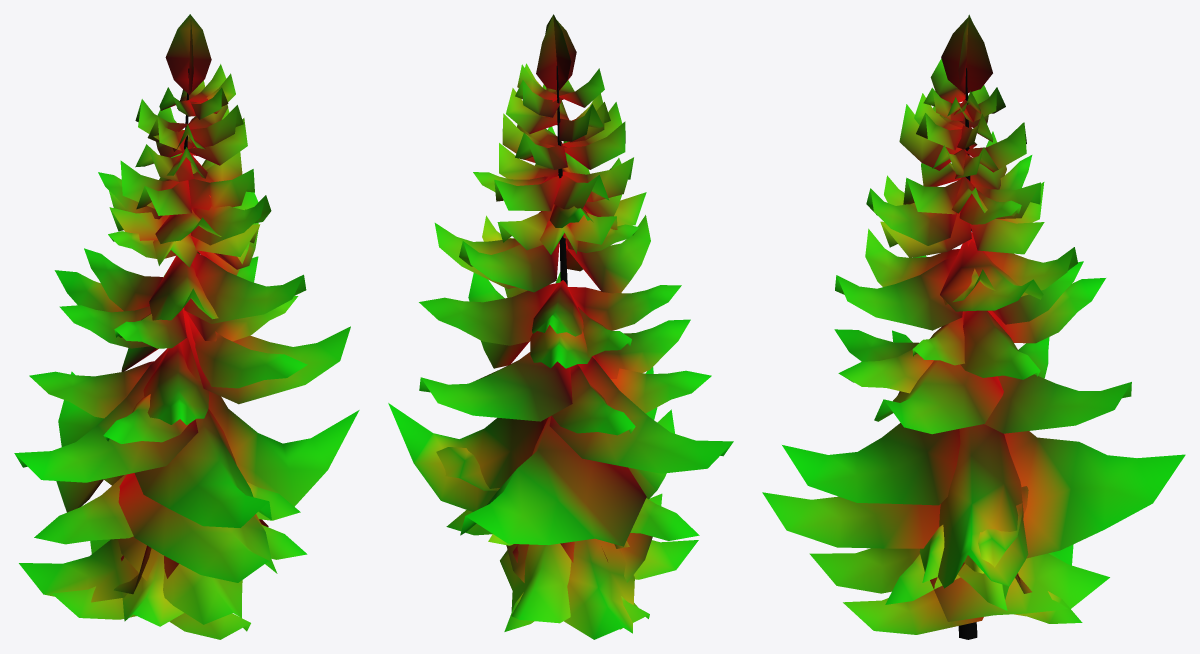
File: Spruce_Small_3.fbx
The picture shows the model from 3 angles, left to right: view 1: azimuth 30°, elevation 25°; view 2: azimuth 150°, elevation 25°; view 3: azimuth 270°, elevation 25°; orthographic projection. The views are drawn at different scales.
Parts seen in each view (by area): view 1: Spruce_Small_3; view 2: Spruce_Small_3; view 3: Spruce_Small_3.
Boxes of the visible parts, left/top/right/bottom form: Spruce_Small_3: left=14, top=14, right=359, bottom=639; Spruce_Small_3: left=388, top=14, right=733, bottom=639; Spruce_Small_3: left=762, top=14, right=1185, bottom=639.
Size of the model in its own units: 2.96 by 4.88 by 3.
